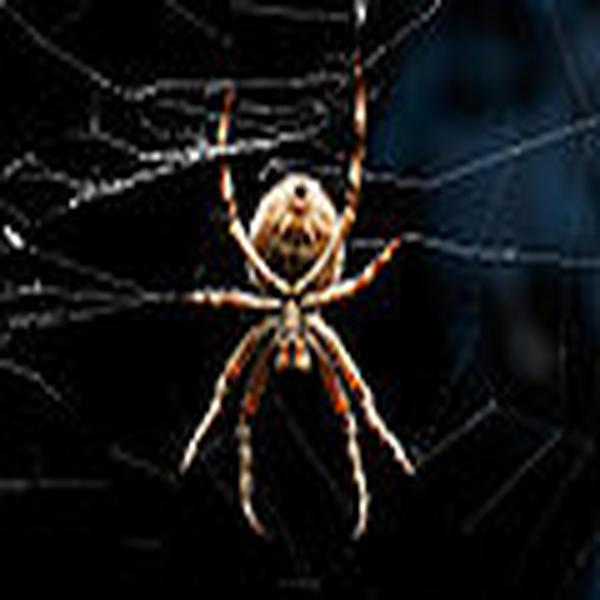Garden Orb Weaver Spider: (200, 102, 409, 534)
